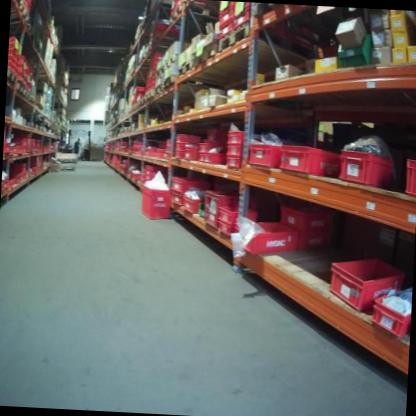pallet: (216, 19, 330, 62), (168, 0, 220, 28), (192, 39, 218, 73), (10, 0, 33, 30), (162, 51, 188, 70), (176, 59, 193, 82), (162, 70, 178, 93), (10, 82, 28, 99), (7, 66, 19, 86), (25, 90, 36, 104)
pallet_truck: (57, 124, 75, 152), (79, 126, 93, 161)
small_load_carrier: (320, 248, 408, 316), (336, 143, 399, 188), (367, 286, 412, 338), (238, 220, 298, 256), (202, 190, 253, 229), (278, 145, 338, 174), (277, 200, 337, 227), (140, 180, 173, 220), (294, 224, 336, 252), (219, 203, 257, 225), (401, 152, 416, 205), (171, 175, 215, 193), (247, 143, 279, 166), (215, 222, 257, 237), (205, 127, 229, 150), (180, 188, 198, 214), (8, 159, 28, 182), (231, 10, 250, 33), (229, 2, 250, 21), (225, 126, 249, 142), (224, 141, 248, 157), (171, 191, 187, 212), (181, 142, 197, 163), (192, 152, 220, 164), (219, 5, 235, 25), (218, 19, 232, 40), (171, 130, 190, 143), (223, 155, 239, 168), (193, 140, 212, 150), (141, 163, 155, 175), (172, 142, 188, 151), (172, 150, 185, 161), (142, 173, 155, 183), (16, 137, 29, 147), (3, 140, 10, 156), (155, 148, 165, 158), (144, 147, 155, 156), (165, 137, 171, 145), (164, 152, 170, 160), (165, 145, 171, 152)
